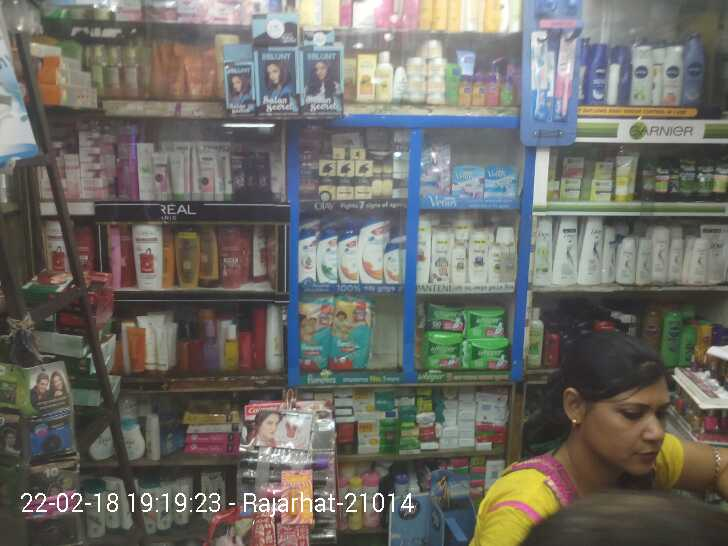venus: (422, 140, 449, 190), (486, 167, 521, 199), (452, 164, 482, 196)
